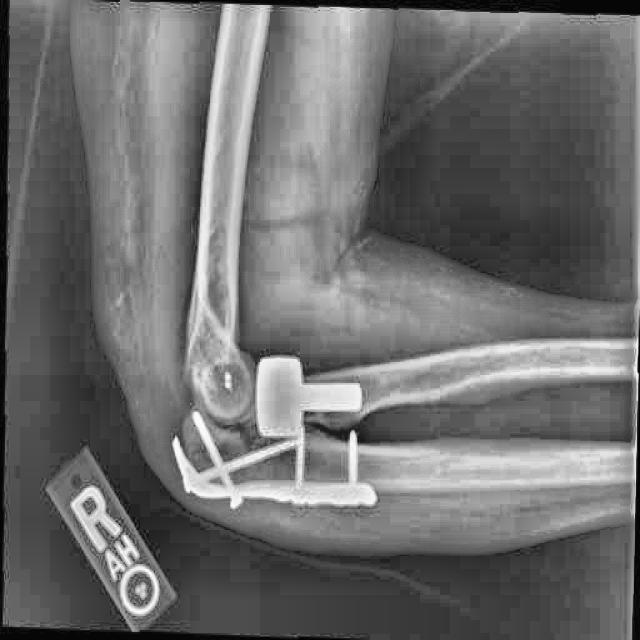elbow positive: (216, 423, 285, 484)
